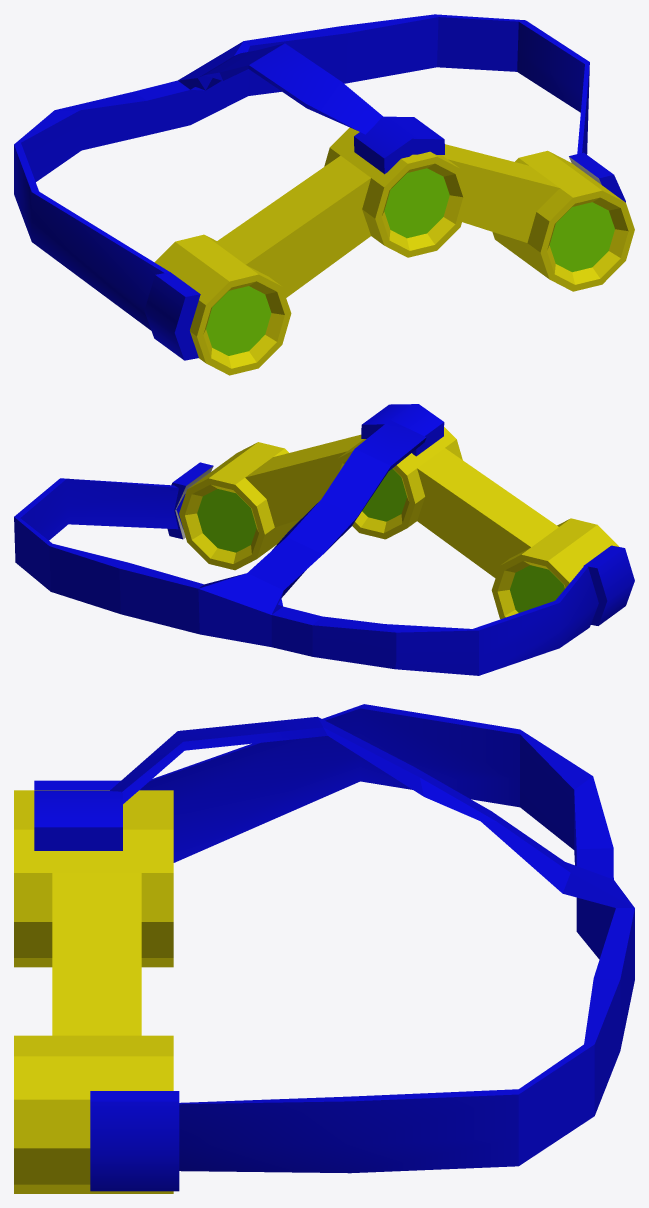
File: googles unwrap.fbx
The picture shows the model from 3 angles, top to bottom: view 1: azimuth 30°, elevation 25°; view 2: azimuth 150°, elevation 25°; view 3: azimuth 270°, elevation 25°; orthographic projection. The views are drawn at different scales.
Parts seen in each view (by area): view 1: googles, rubber_bands, velkcrow_parts; view 2: rubber_bands, googles, velkcrow_parts; view 3: rubber_bands, googles, velkcrow_parts.
Boxes of the visible parts, x1,y1,x2,y2 form: googles: (154, 127, 634, 375); rubber_bands: (14, 14, 589, 330); velkcrow_parts: (144, 116, 625, 360); rubber_bands: (14, 420, 598, 675); googles: (179, 427, 618, 619); velkcrow_parts: (167, 404, 634, 625); rubber_bands: (110, 704, 634, 1173); googles: (14, 790, 173, 1193); velkcrow_parts: (34, 780, 179, 1191).
Size of the model in its own units: 1.93 by 0.7183 by 1.28.
